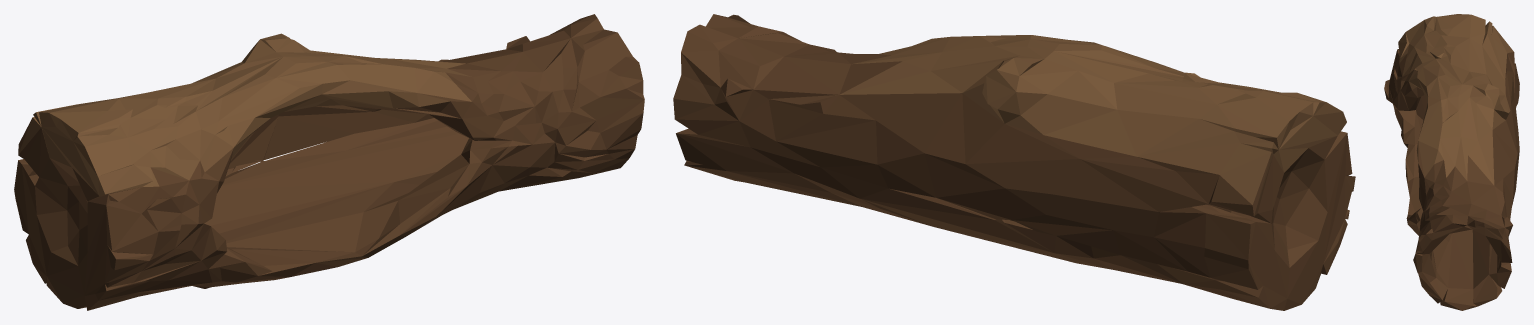
File: log-2.glb
3 renders of one model, left to right at view 1: azimuth 30°, elevation 25°; view 2: azimuth 150°, elevation 25°; view 3: azimuth 270°, elevation 25°, orthographic. The views are drawn at different scales.
Visible parts, largest first — view 1: output_unwrapped; view 2: output_unwrapped; view 3: output_unwrapped.
Boxes of the visible parts, left/top/right/bottom form: output_unwrapped: left=14, top=14, right=644, bottom=310; output_unwrapped: left=673, top=14, right=1355, bottom=310; output_unwrapped: left=1384, top=14, right=1519, bottom=310.
Size of the model in its own units: 4 by 1.38 by 1.28.
